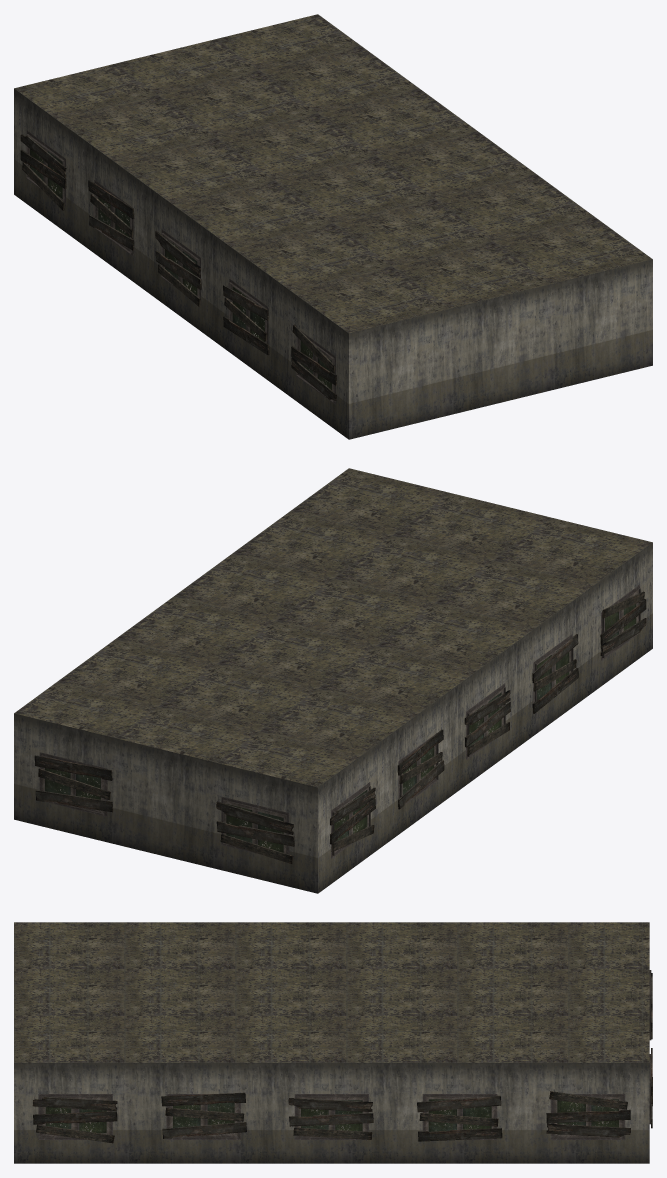
The model's file is barracks01int.obj.
The picture shows the model from 3 angles, top to bottom: view 1: azimuth 30°, elevation 25°; view 2: azimuth 150°, elevation 25°; view 3: azimuth 270°, elevation 25°; orthographic projection. The views are drawn at different scales.
Parts seen in each view (by area): view 1: BarracksIntCeling:0, BarracksIntWalls:0, BarracksIntWood:0, BarracksIntGlass:0; view 2: BarracksIntCeling:0, BarracksIntWalls:0, BarracksIntWood:0, BarracksIntGlass:0; view 3: BarracksIntCeling:0, BarracksIntWalls:0, BarracksIntWood:0, BarracksIntGlass:0.
Part boxes in pixels (box(x1,y1,x2,y2)): BarracksIntCeling:0: box(14, 14, 652, 333); BarracksIntWalls:0: box(14, 88, 652, 439); BarracksIntWood:0: box(20, 130, 337, 404); BarracksIntGlass:0: box(30, 145, 331, 389); BarracksIntCeling:0: box(14, 468, 652, 787); BarracksIntWalls:0: box(14, 542, 652, 893); BarracksIntWood:0: box(34, 584, 646, 863); BarracksIntGlass:0: box(45, 594, 636, 852); BarracksIntCeling:0: box(14, 922, 649, 1062); BarracksIntWalls:0: box(14, 1063, 649, 1163); BarracksIntWood:0: box(32, 970, 652, 1143); BarracksIntGlass:0: box(45, 1099, 618, 1134).
Bounding box in the file's own units: 63.66 × 20.8 × 119.
Materials: 5 (5 with a texture image).
